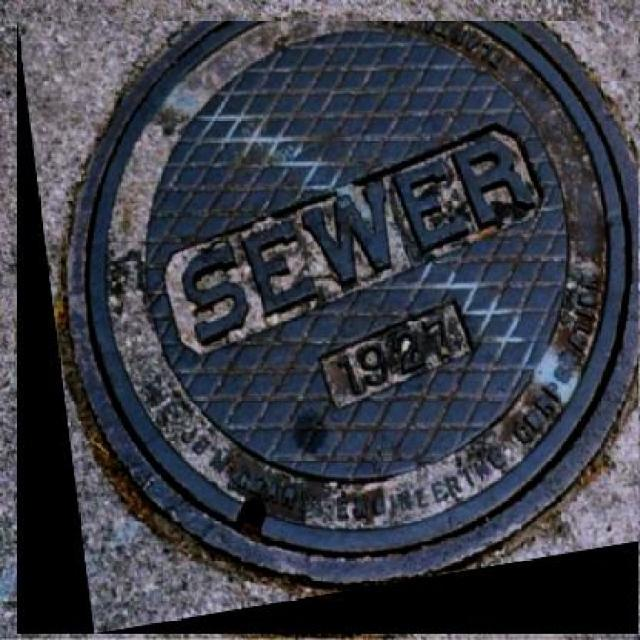Manhole: (16, 20, 638, 634)
